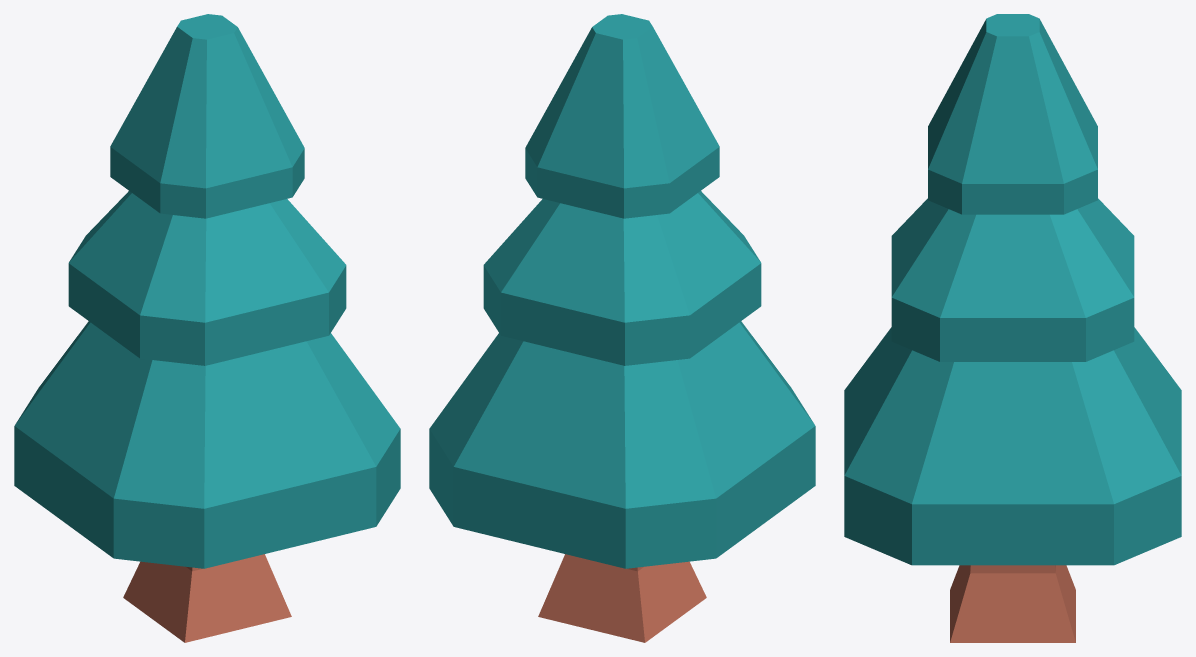
The model's file is tree-pine-small-a.glb.
3 views of the same model, side by side, from view 1: azimuth 30°, elevation 25°; view 2: azimuth 150°, elevation 25°; view 3: azimuth 270°, elevation 25° (orthographic).
Visible parts, largest first — view 1: tree_pineSmallA; view 2: tree_pineSmallA; view 3: tree_pineSmallA.
Part boxes in pixels (left/top/right/bottom): tree_pineSmallA: left=14, top=14, right=400, bottom=642; tree_pineSmallA: left=429, top=14, right=815, bottom=642; tree_pineSmallA: left=844, top=14, right=1181, bottom=642.
Size of the model in its own units: 0.5 by 0.9672 by 0.5.
